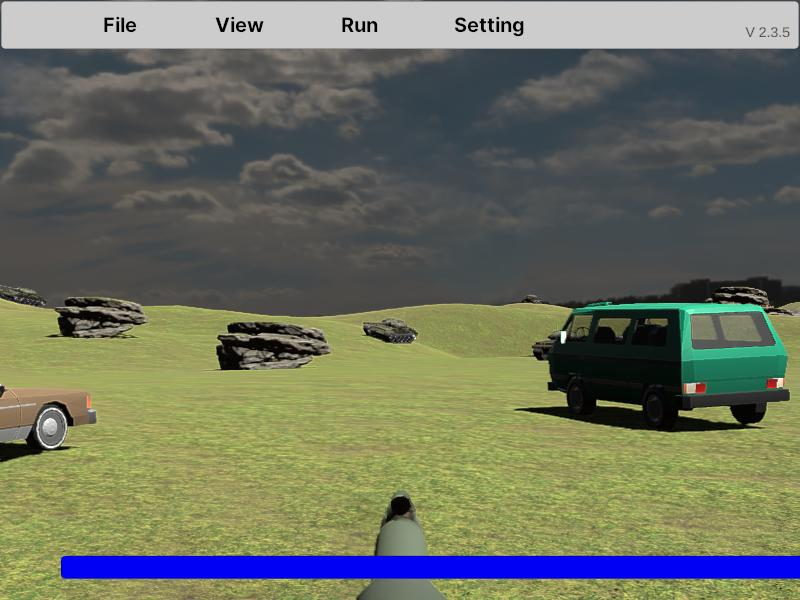Tank: (362, 317, 419, 344)
car: (547, 303, 791, 431), (0, 371, 97, 471)
